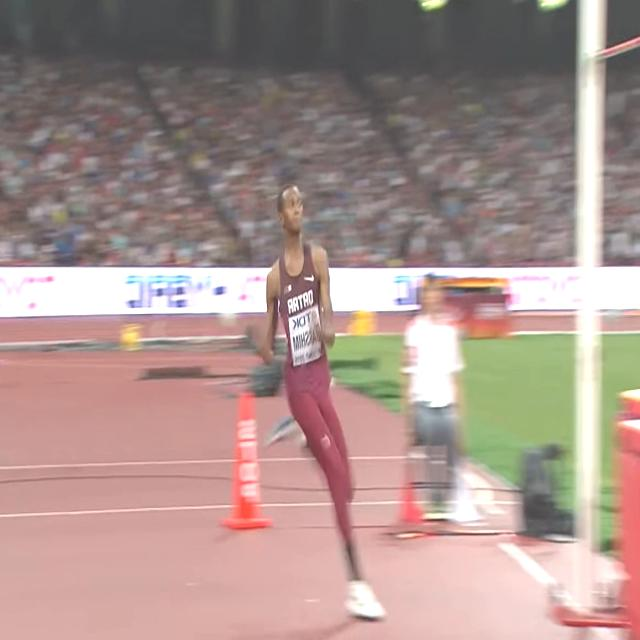run: (258, 179, 386, 624)
